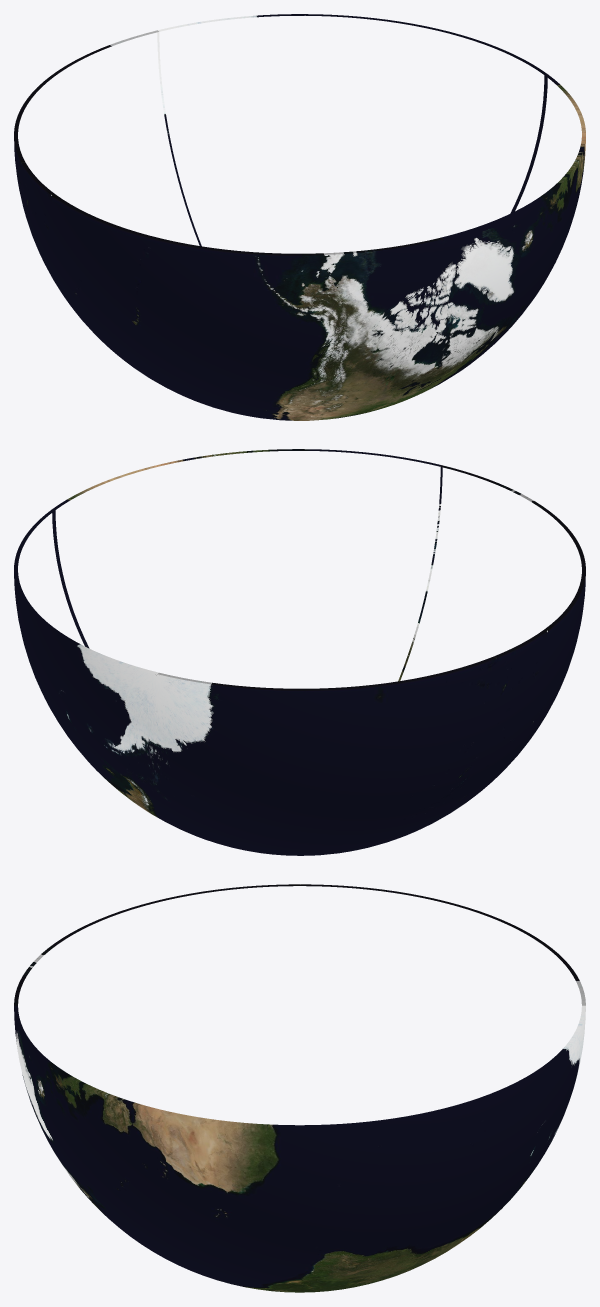
3 renders of one model, top to bottom at view 1: azimuth 30°, elevation 25°; view 2: azimuth 150°, elevation 25°; view 3: azimuth 270°, elevation 25°, orthographic.
Visible parts, largest first — view 1: DefaultName.012, DefaultName.009, DefaultName.003, DefaultName.006; view 2: DefaultName.003, DefaultName.006, DefaultName.012, DefaultName.009; view 3: DefaultName.006, DefaultName.009, DefaultName.003, DefaultName.012.
Boxes of the visible parts, box(x1,y1,x2,y2) form: DefaultName.012: box(52, 194, 442, 420); DefaultName.009: box(374, 74, 585, 410); DefaultName.003: box(14, 30, 158, 359); DefaultName.006: box(157, 14, 547, 246); DefaultName.003: box(157, 629, 547, 855); DefaultName.006: box(14, 509, 225, 845); DefaultName.012: box(441, 465, 585, 794); DefaultName.009: box(52, 449, 442, 681); DefaultName.006: box(300, 1005, 585, 1292); DefaultName.009: box(14, 1005, 299, 1292); DefaultName.003: box(300, 884, 585, 1005); DefaultName.012: box(14, 884, 299, 1005).
Bounding box in the file's own units: 127563 × 63781 × 127135.
4 materials, 4 textured.
